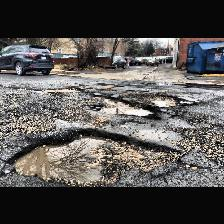pothole: (7, 126, 184, 184), (89, 94, 160, 120), (148, 94, 188, 106), (38, 87, 74, 91), (100, 82, 116, 88)
